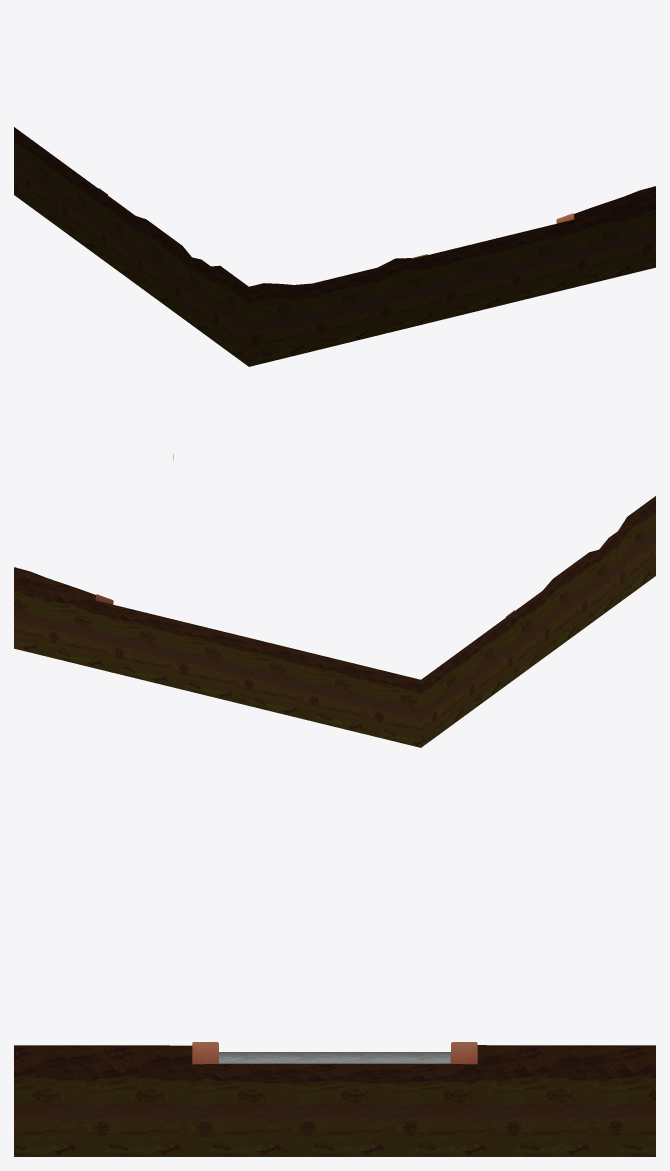
3 renders of one model, top to bottom at view 1: azimuth 30°, elevation 25°; view 2: azimuth 150°, elevation 25°; view 3: azimuth 270°, elevation 25°, orthographic. The views are drawn at different scales.
Parts seen in each view (by area): view 1: Joint_0_Object_3; view 2: Joint_0_Object_3; view 3: Joint_0_Object_3, Joint_0_Object_4, Joint_0_Object_2.
Part boxes in pixels (x1,y1,x2,y2): Joint_0_Object_3: [14, 127, 655, 366]; Joint_0_Object_3: [14, 496, 655, 747]; Joint_0_Object_3: [14, 1045, 655, 1156]; Joint_0_Object_4: [219, 1052, 450, 1063]; Joint_0_Object_2: [192, 1042, 477, 1064].
Size of the model in its own units: 10022 by 1977 by 10000.
Materials: 5 (5 with a texture image).
